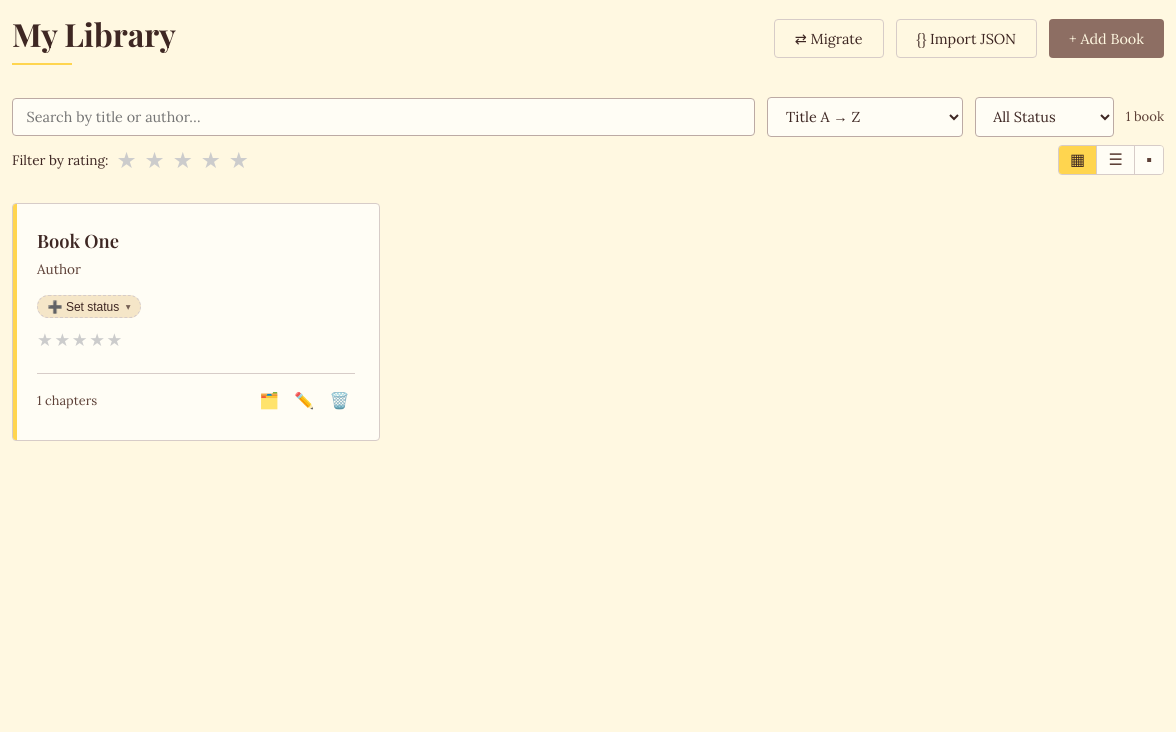
Scenario: LibraryPage failures (FE-05) › reports a failed rating
Click the 9th text titled "Rate 4 stars".
click(97, 340)  # box [89, 328, 105, 351]
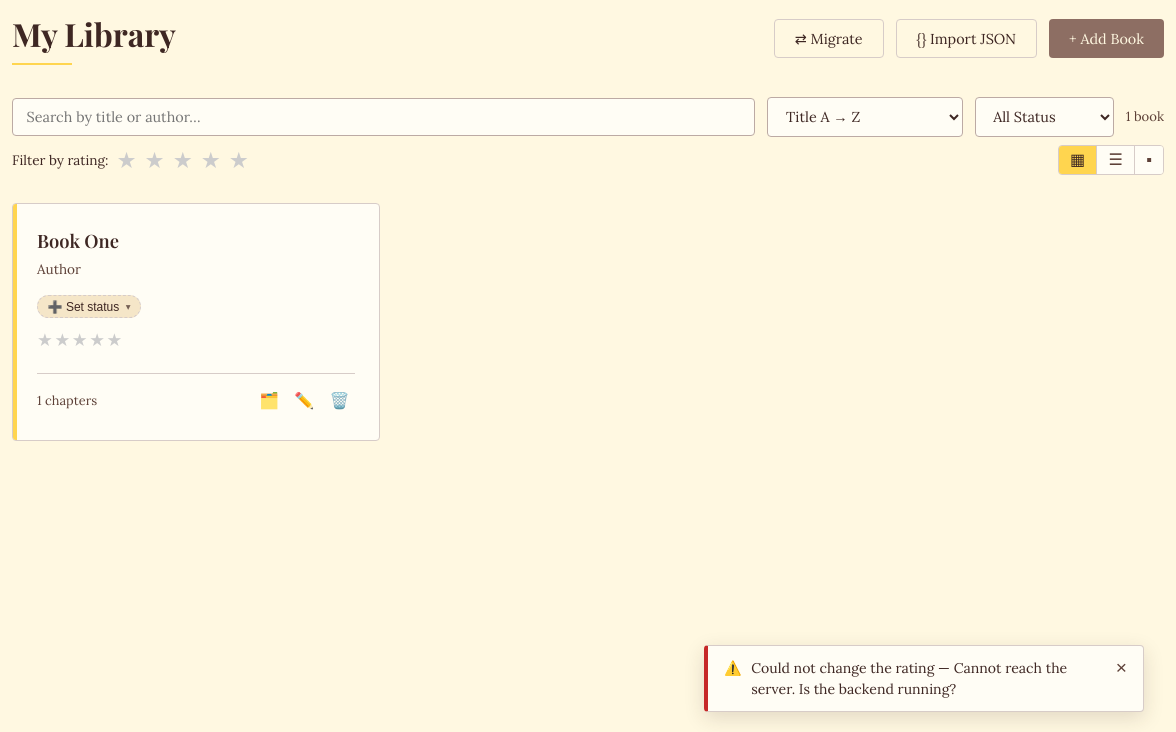
Expected: the message shows "Could not change the rating — Cannot reach the server", [751, 659, 1067, 698]
